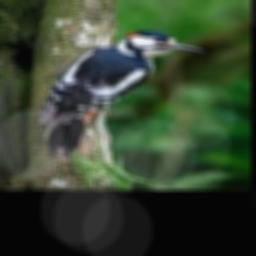Woodpecker: (38, 31, 204, 159)
